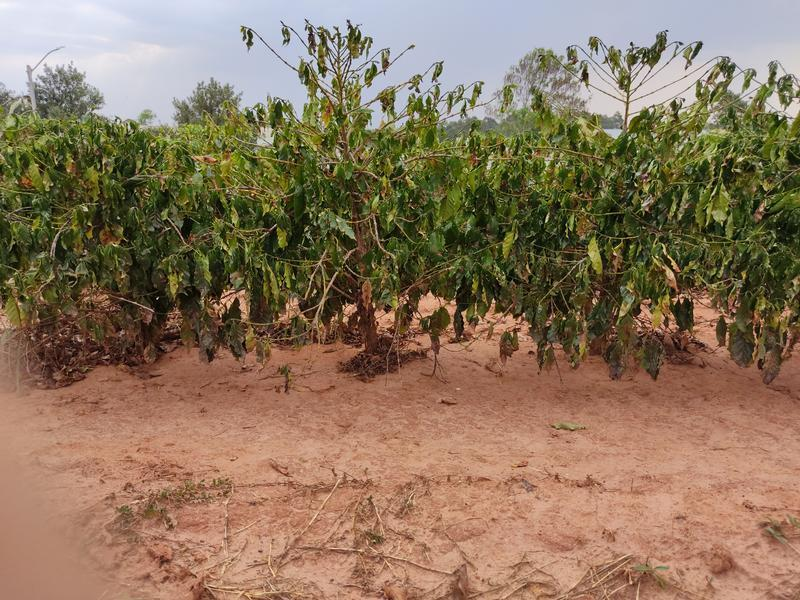coffee: (278, 16, 435, 384), (542, 118, 662, 377), (194, 133, 311, 371), (90, 130, 199, 376), (2, 117, 101, 352)
